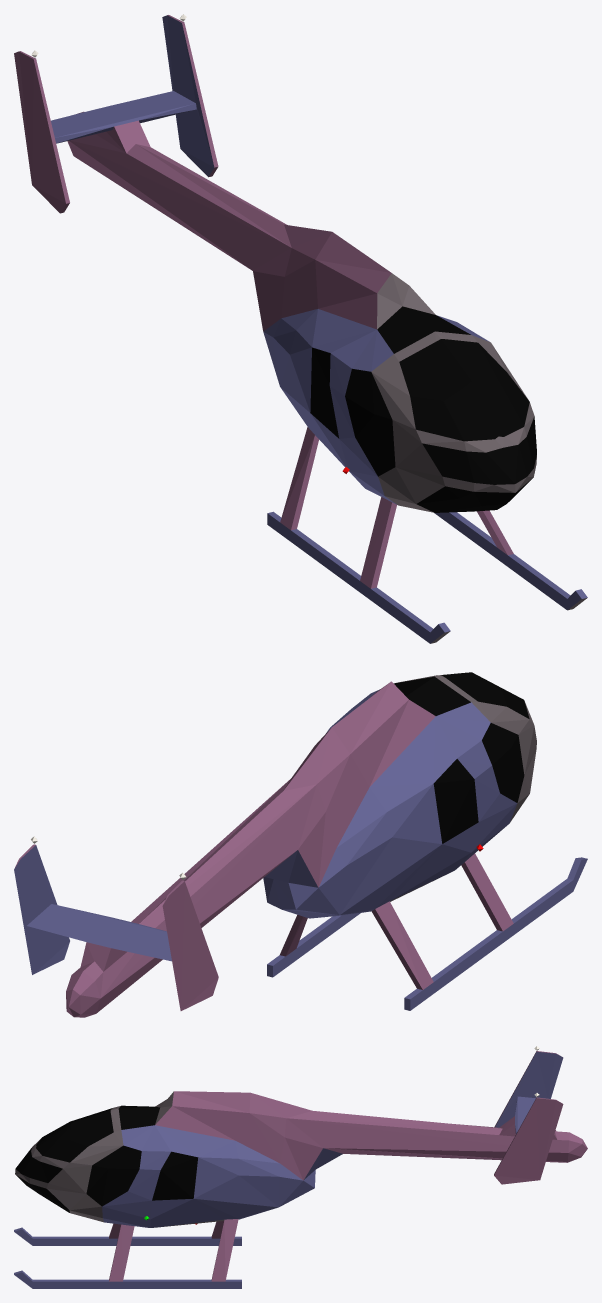
3 views of the same model, one above another, from view 1: azimuth 30°, elevation 25°; view 2: azimuth 150°, elevation 25°; view 3: azimuth 270°, elevation 25° (orthographic). The views are drawn at different scales.
Parts seen in each view (by area): view 1: MD520 | archived geometry; view 2: MD520 | archived geometry; view 3: MD520 | archived geometry.
Boxes of the visible parts, x1,y1,x2,y2 form: MD520 | archived geometry: [14, 15, 587, 643]; MD520 | archived geometry: [14, 672, 587, 1017]; MD520 | archived geometry: [14, 1051, 587, 1288].
Size of the model in its own units: 1.4 by 2.65 by 6.99.
